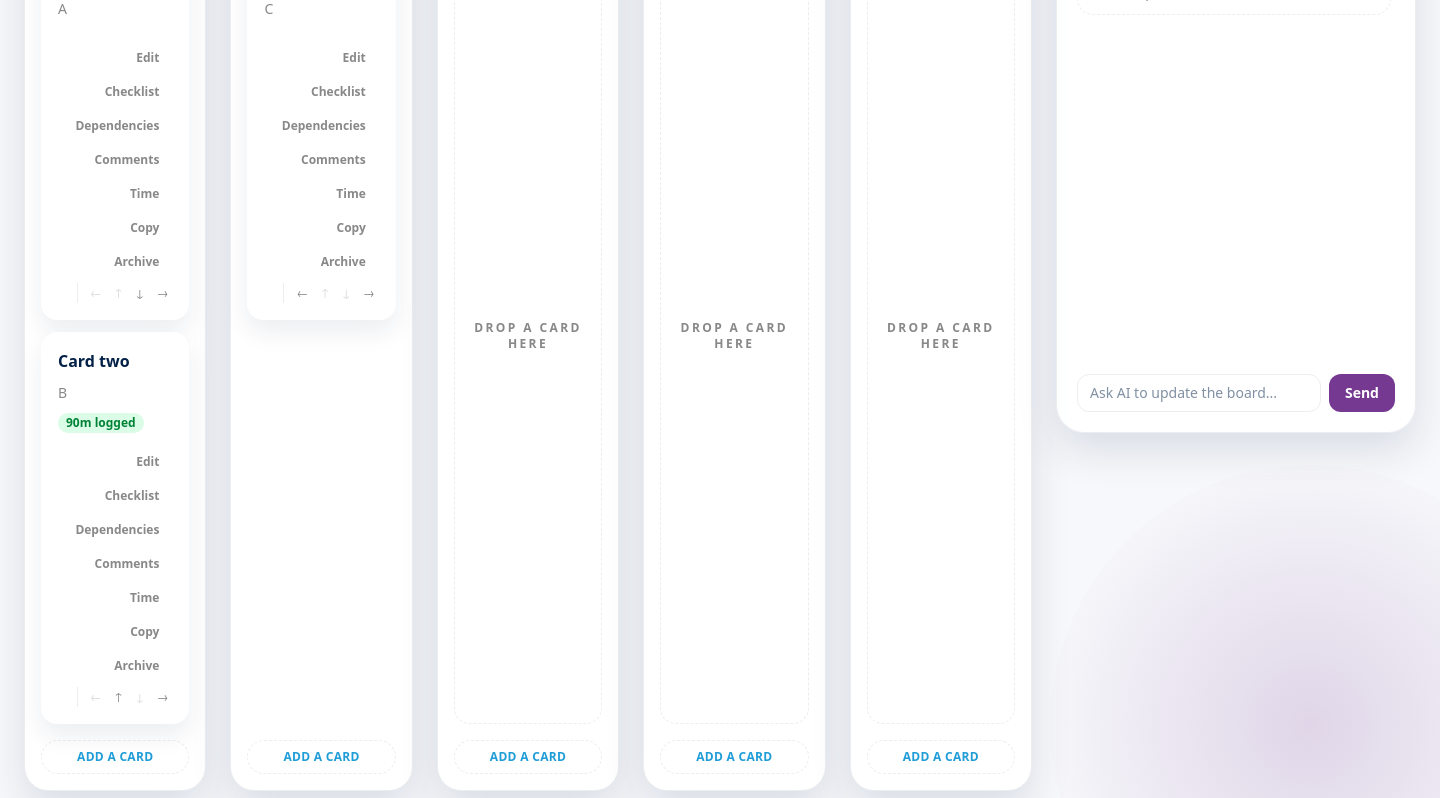
KanbanBoard › renders system chat message when updatesError is returned
(page scrolled)
Type "help" into the field named "AI chat message".
click(1199, 393); type("help")  # box x1=1077 y1=374 x2=1321 y2=412
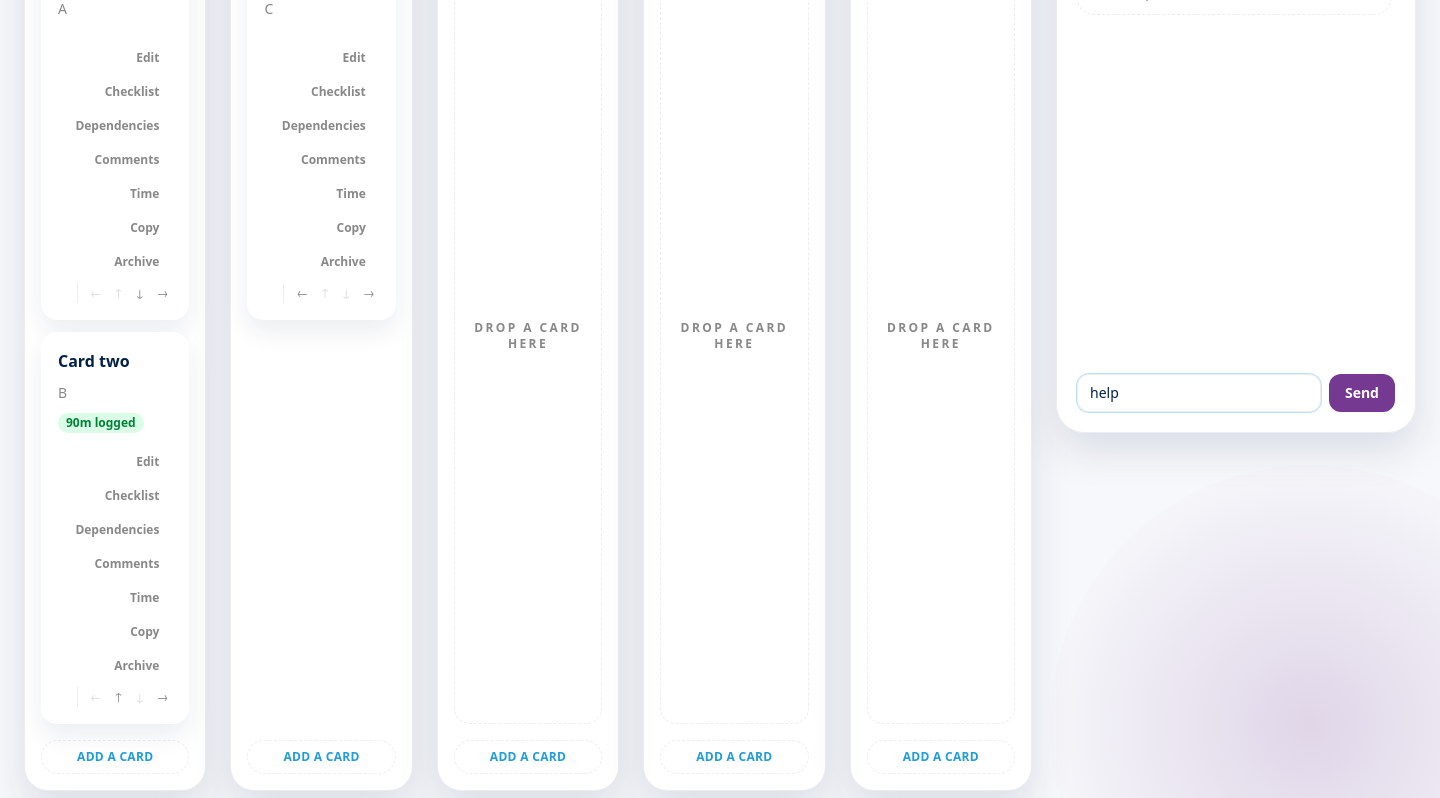
Click the button "Send".
click(1362, 393)  # box x1=1329 y1=374 x2=1395 y2=412
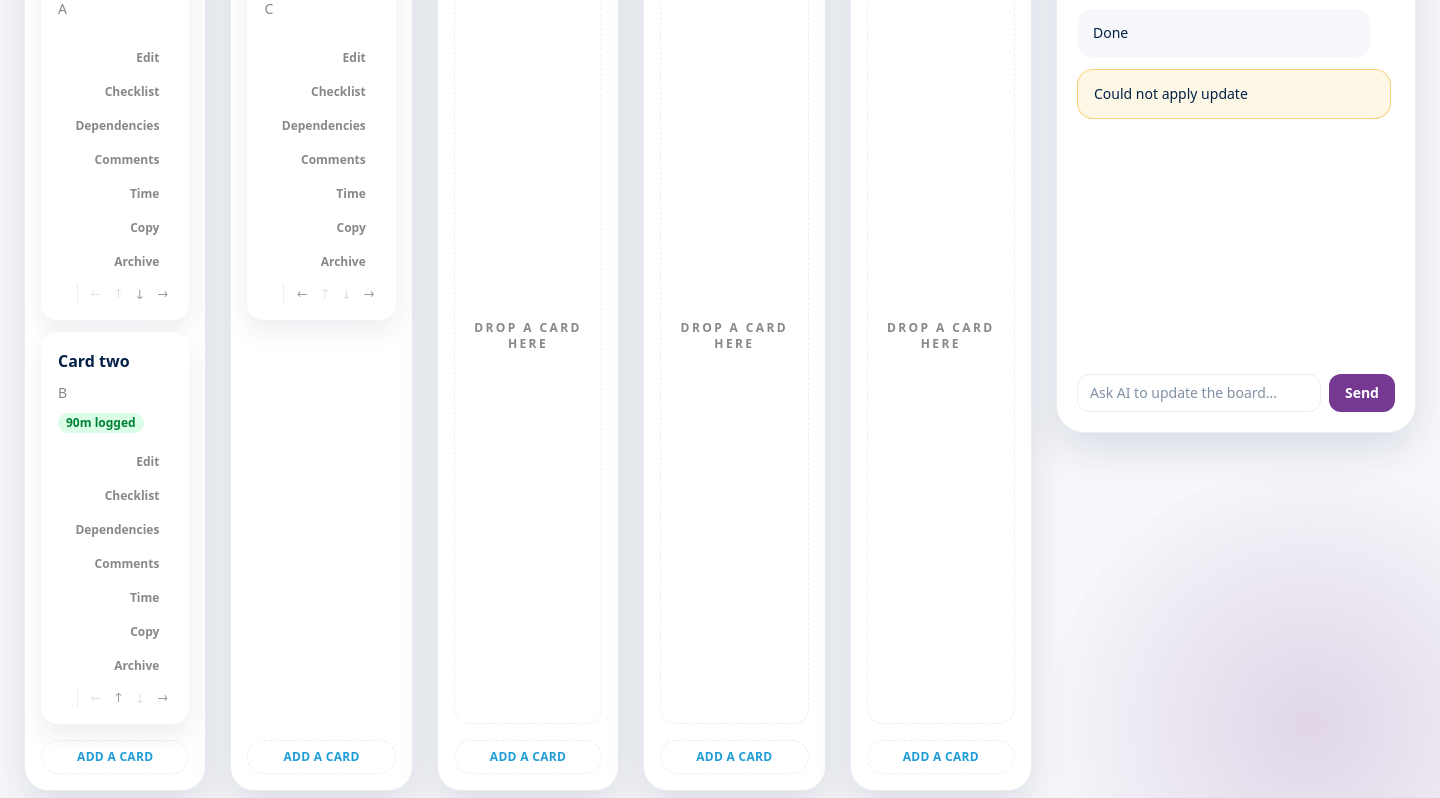
expect the text "Could not apply update" is shown: met, box x1=1077 y1=69 x2=1391 y2=119
